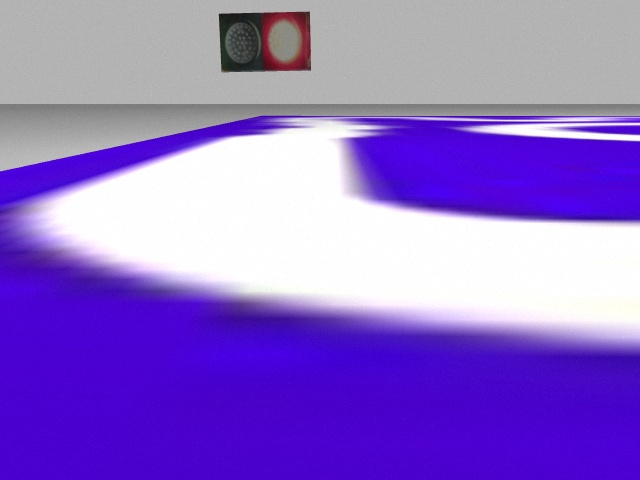red: (260, 14, 310, 69)
